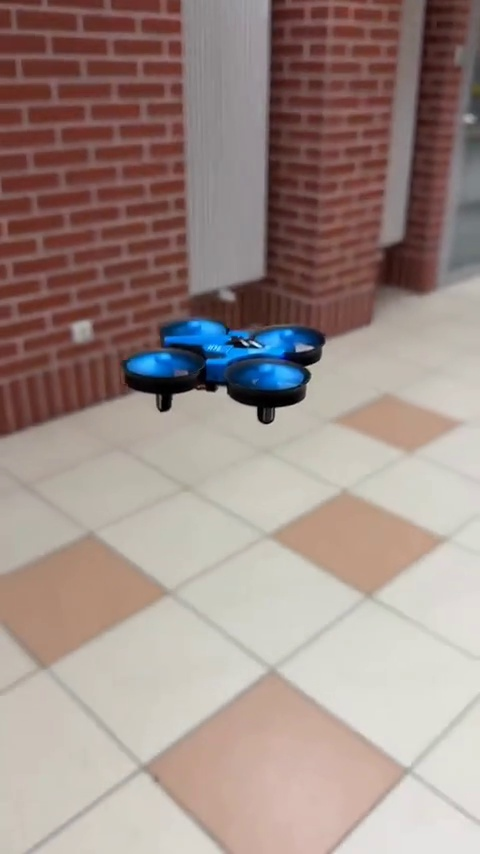drone: (114, 319, 327, 421)
